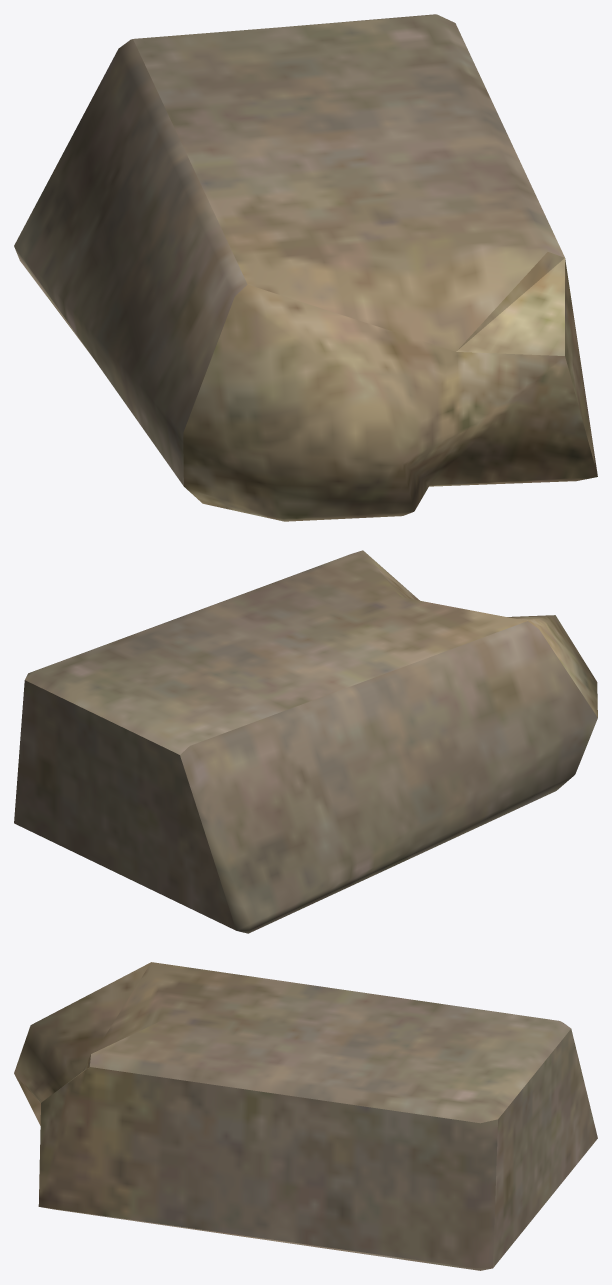
Rendered from environment_common_shamofeixu_001_g.FBX.
3 views of the same model, one above another, from view 1: azimuth 30°, elevation 25°; view 2: azimuth 150°, elevation 25°; view 3: azimuth 270°, elevation 25° (orthographic). The views are drawn at different scales.
Visible parts, largest first — view 1: environment_common_shamofeixu_001_g; view 2: environment_common_shamofeixu_001_g; view 3: environment_common_shamofeixu_001_g.
Part boxes in pixels (left/top/right/bottom): environment_common_shamofeixu_001_g: left=14, top=14, right=597, bottom=521; environment_common_shamofeixu_001_g: left=14, top=550, right=597, bottom=933; environment_common_shamofeixu_001_g: left=14, top=962, right=597, bottom=1270.
Bounding box in the file's own units: 131 × 50.18 × 172.
